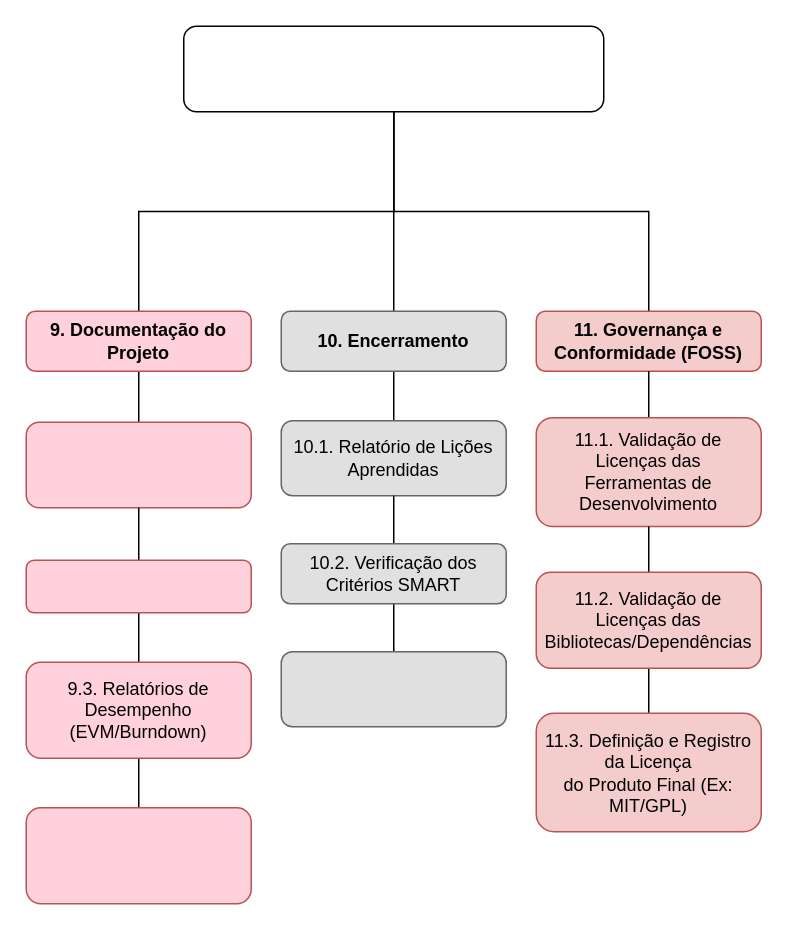
The diagram is 788 pixels wide and 930 high, and some of its shapes have lost their labels. Each missing label, with the box of its shape:
10.3. Apresentação Final e Aceite do Patrocinador: (280, 650, 506, 727)
9.1. Documentação Técnica (Arquitetura, APIs, Código): (25, 421, 251, 508)
9.2. Manual do Usuário: (25, 559, 251, 613)
9.4. Consolidação da Documentação Parcial (Entrega até 08/09/2026): (25, 806, 251, 904)
COGME - Conversor de Ganhos em Moeda Estrangeira: (182, 25, 604, 112)
